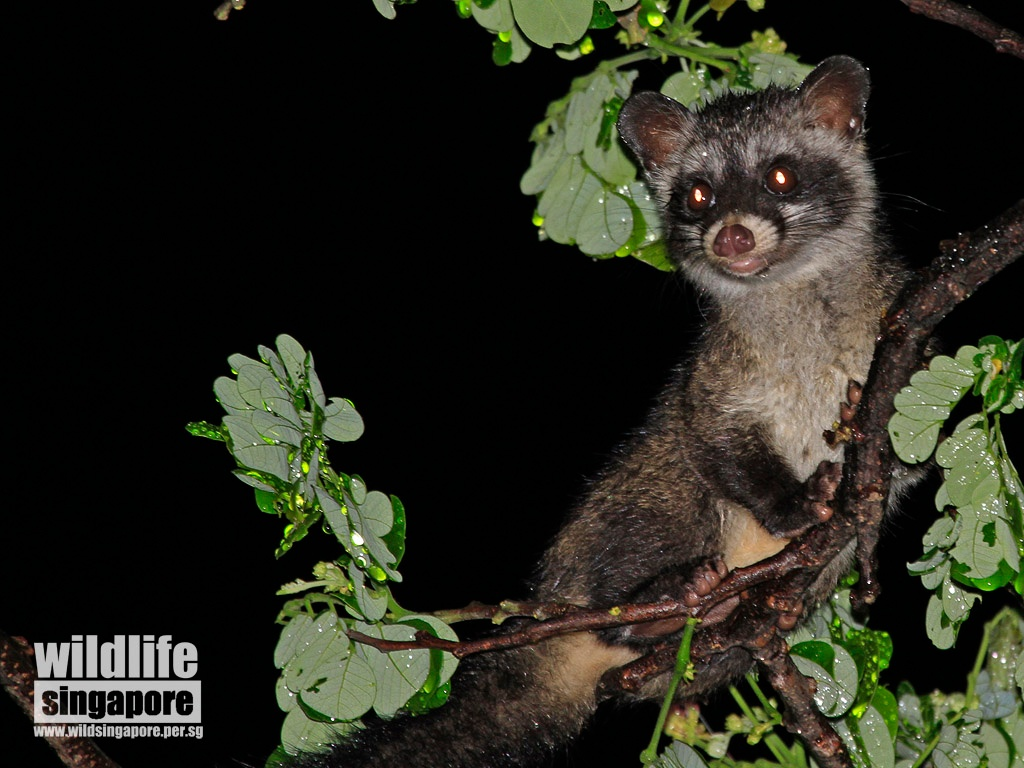Civet: (579, 40, 911, 616)
